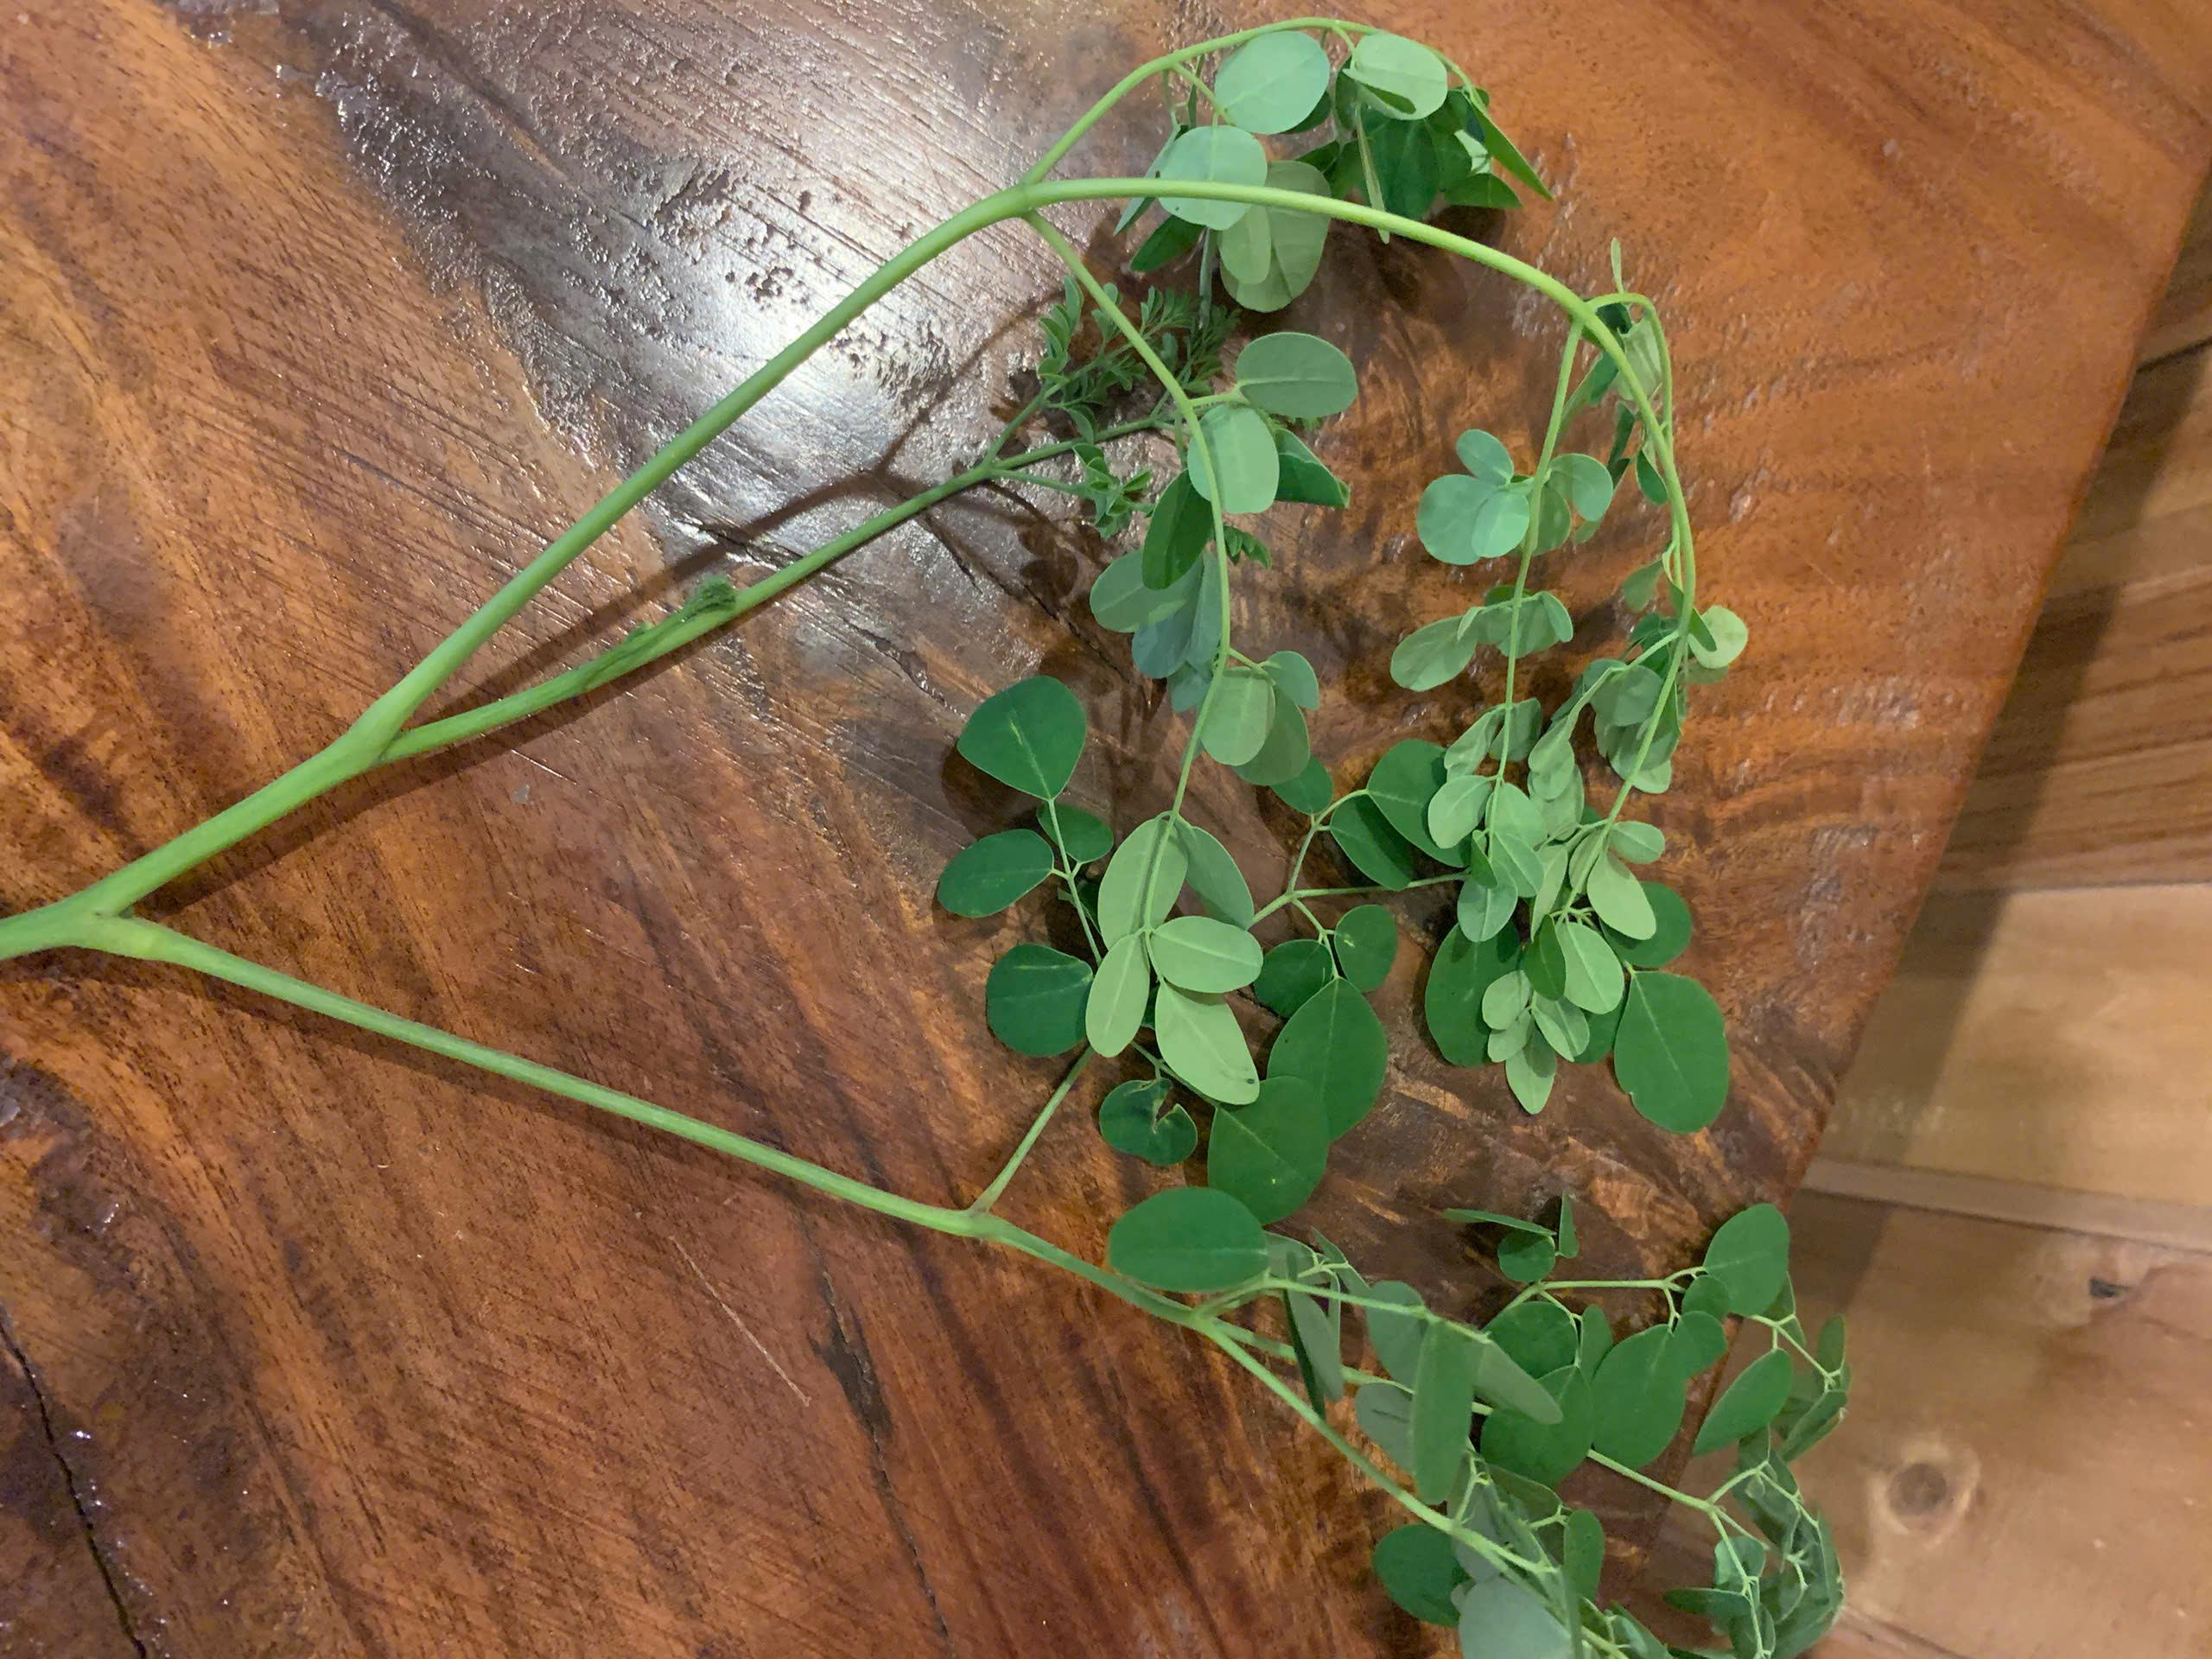Huu co: (265, 26, 1820, 1523)
